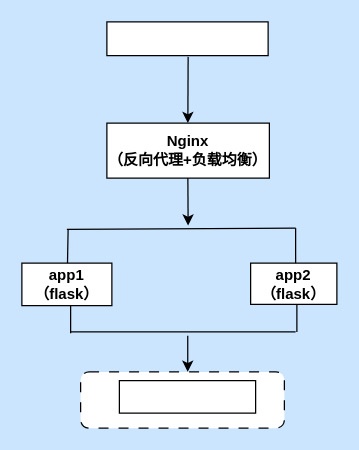
This 359x450 diagram has some shape labels left out. Each missing label, with the centre of its shape:
Browser: point 187,38
redis（计数器）: point 187,396
